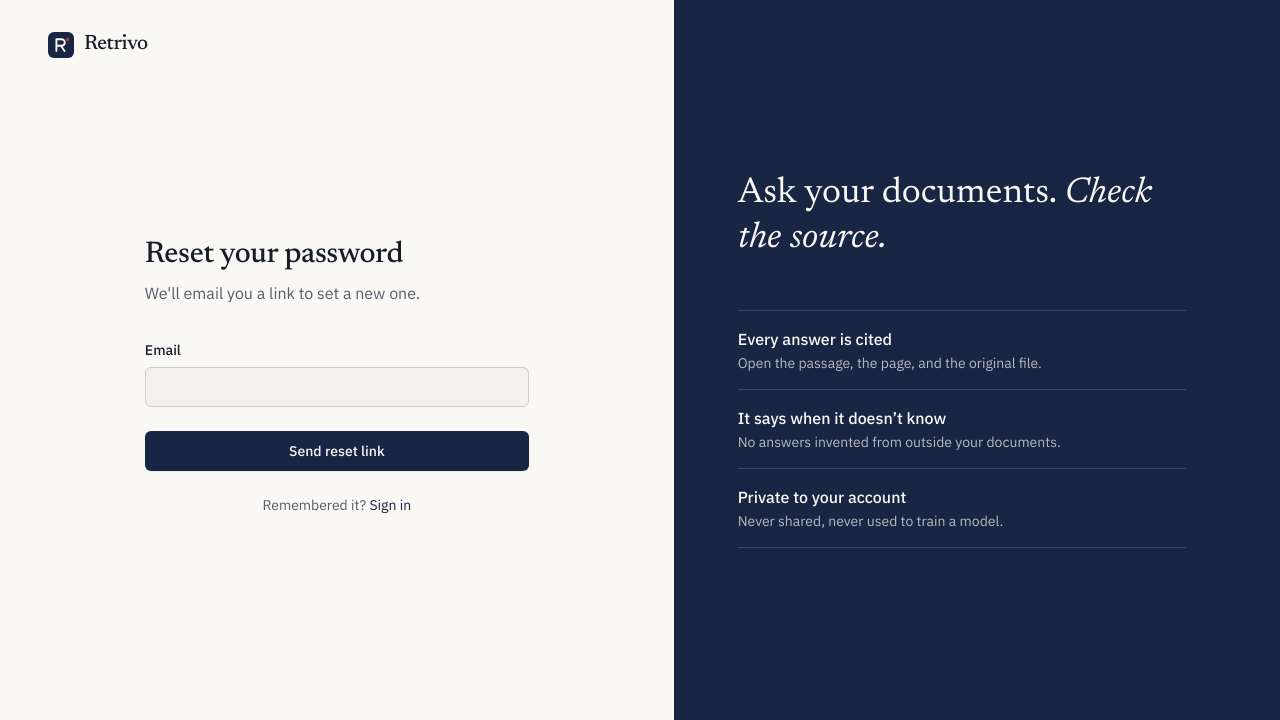
ForgotPassword › posts the email and shows a neutral confirmation
Type "ada@example.com" into the field labelled "Email". click: (337, 387)
box: [145,367,529,407]
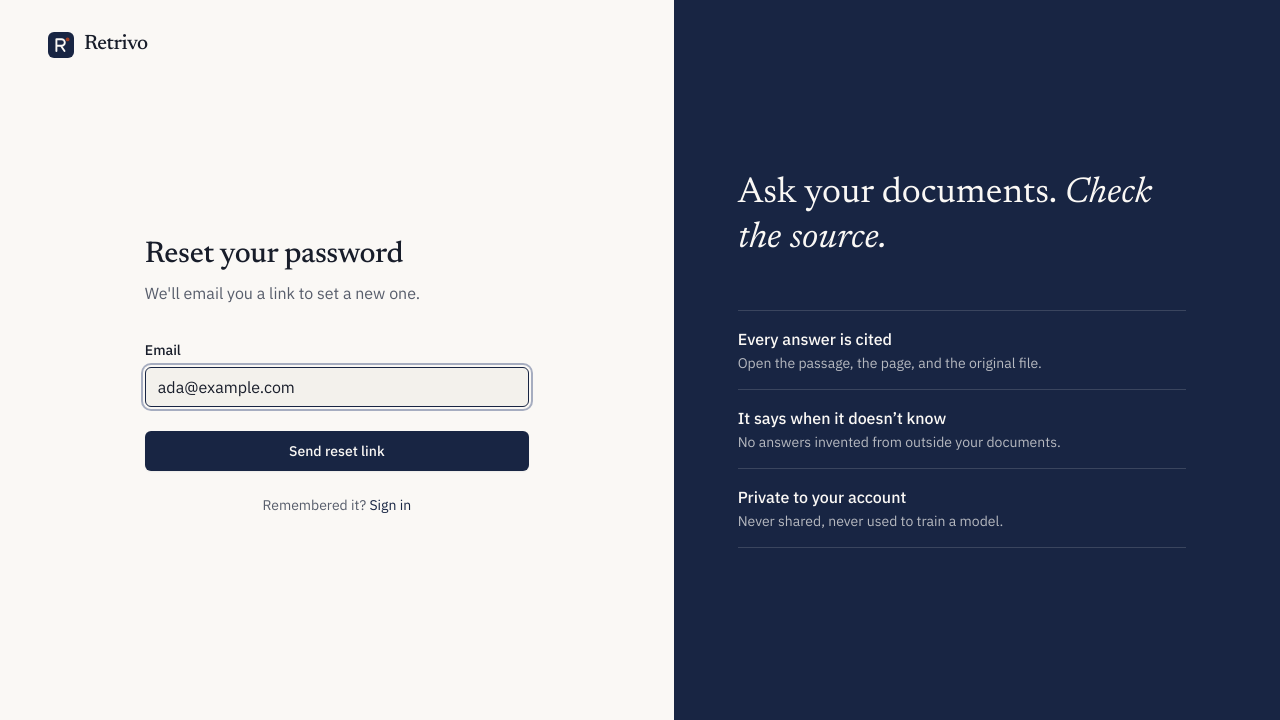
Click the button "Send reset link". click: (337, 451)
box: [145,431,529,471]
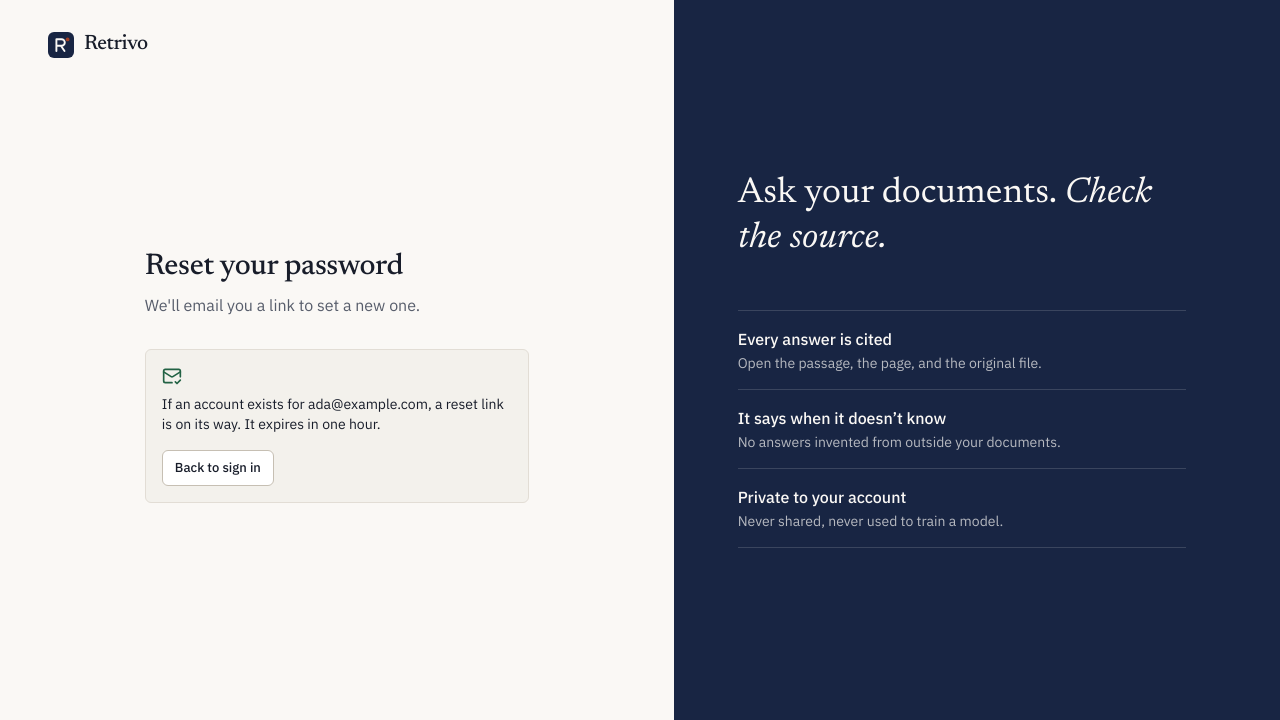
expect the text "a reset link is on its way" is shown: met, box [162,395,504,433]
